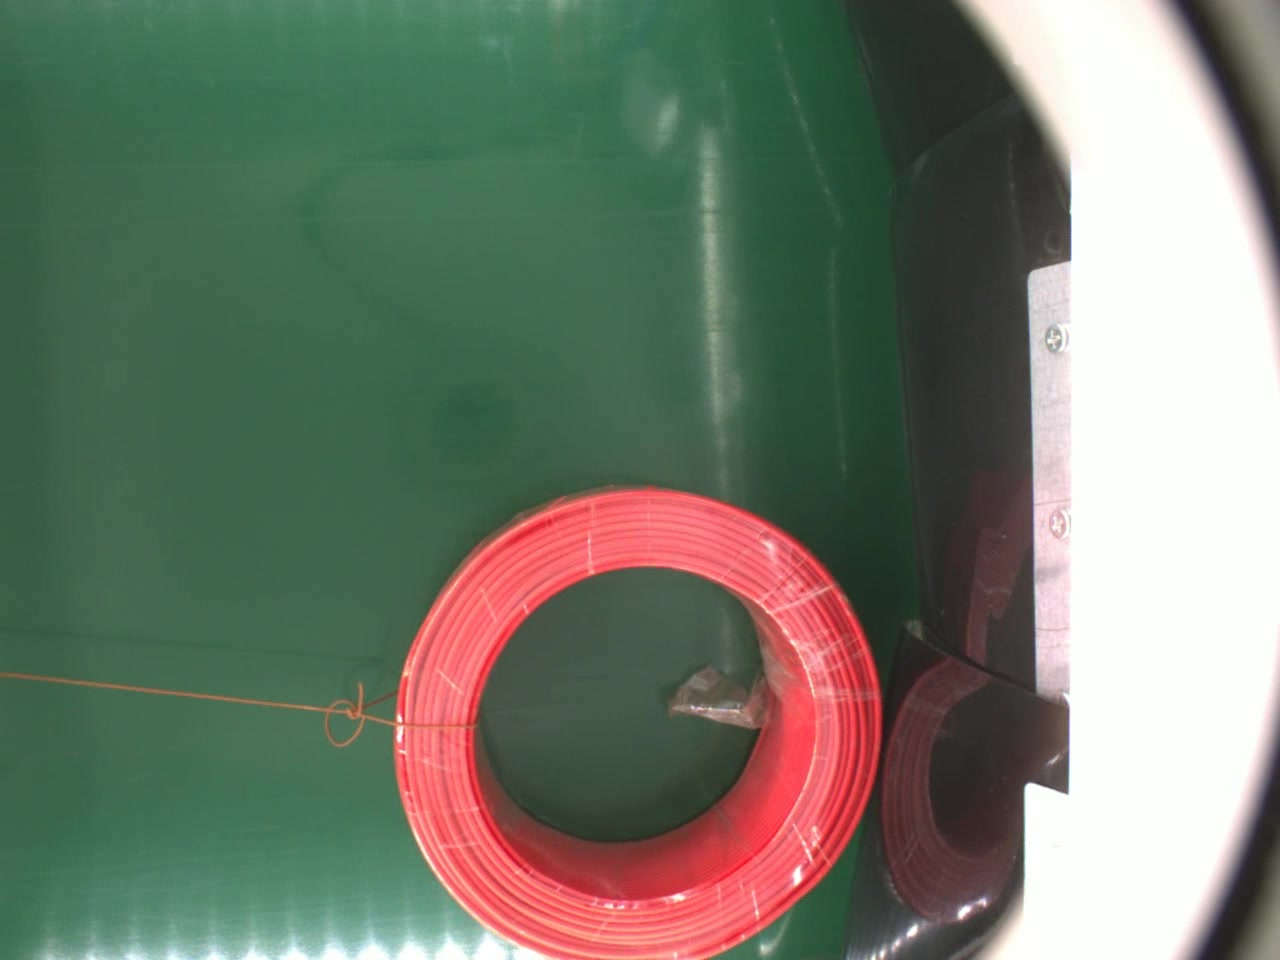red: (378, 483, 893, 960)
